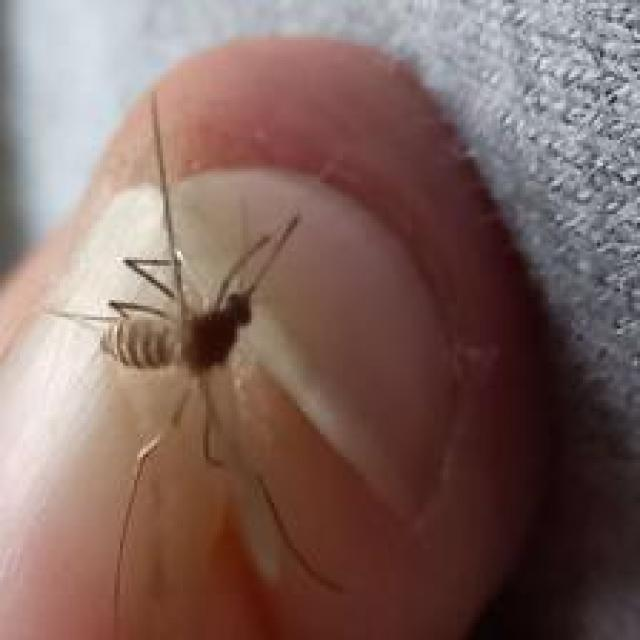Culex: (39, 89, 382, 637)
